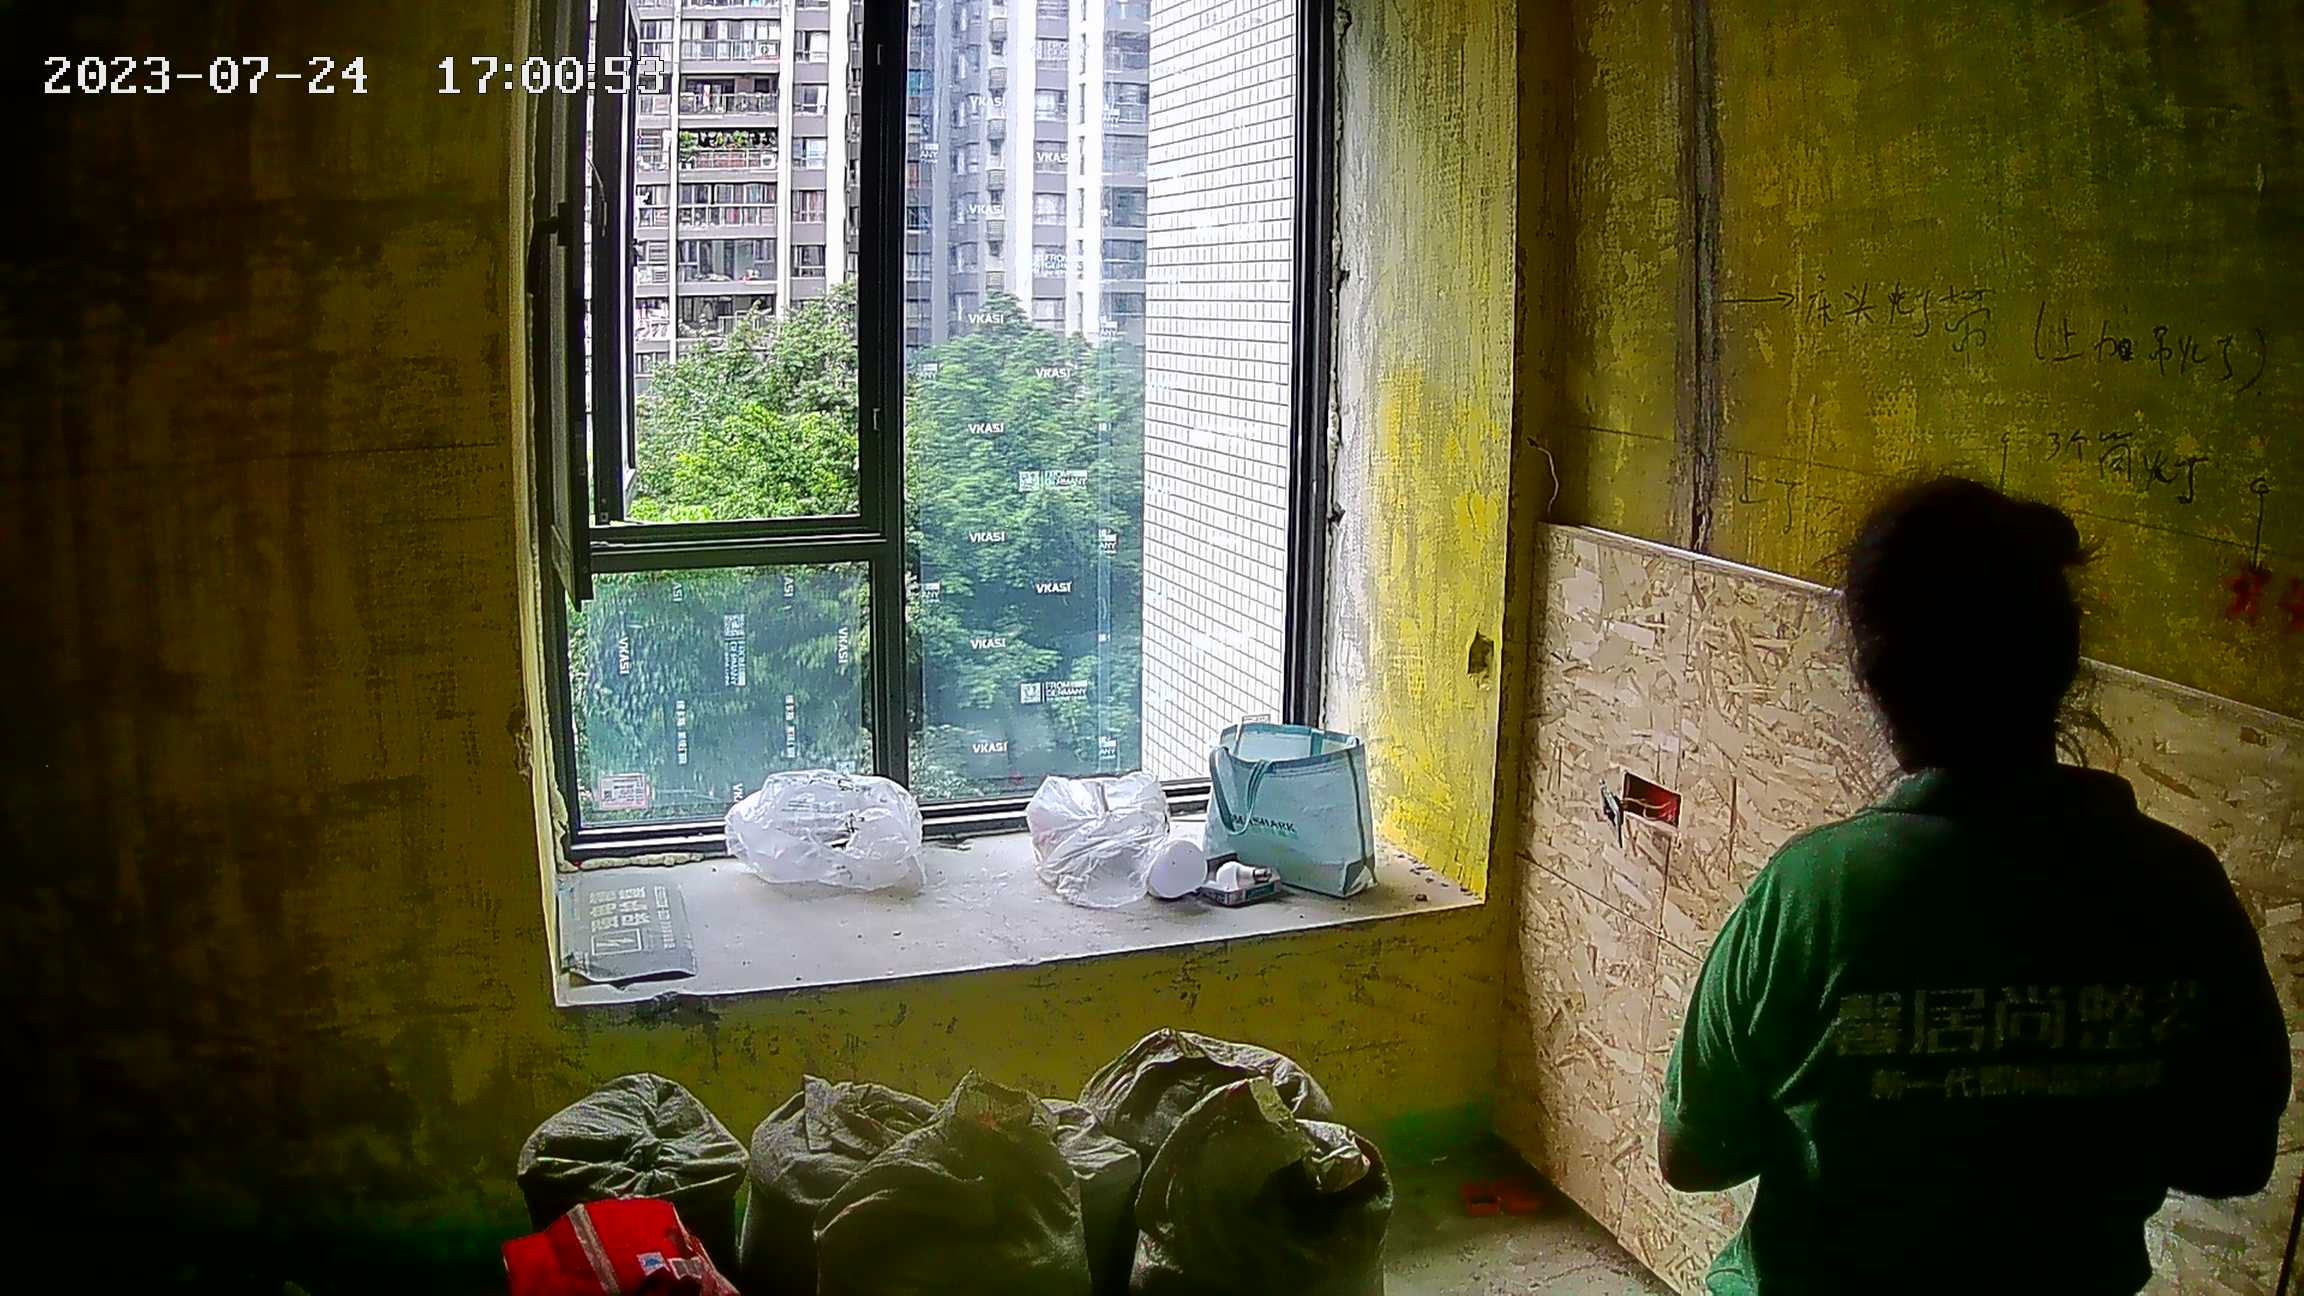people: (1646, 465, 2277, 1291)
window: (573, 1, 1300, 845)
